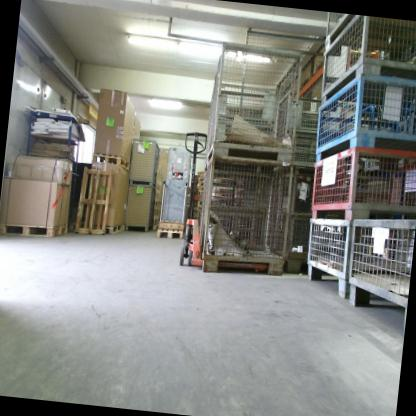pallet: (73, 166, 110, 234), (0, 215, 70, 244), (90, 150, 132, 172), (150, 169, 163, 229), (95, 220, 124, 240), (155, 225, 185, 242)
pallet_truck: (168, 126, 288, 276)
stillage: (195, 152, 296, 281), (205, 40, 304, 171), (299, 213, 414, 308), (278, 171, 374, 283), (318, 12, 416, 118), (314, 71, 416, 171), (307, 141, 416, 232), (339, 212, 415, 336), (191, 166, 283, 265), (270, 88, 325, 168), (122, 182, 157, 234), (324, 12, 365, 54), (127, 137, 161, 187), (203, 90, 215, 170)
